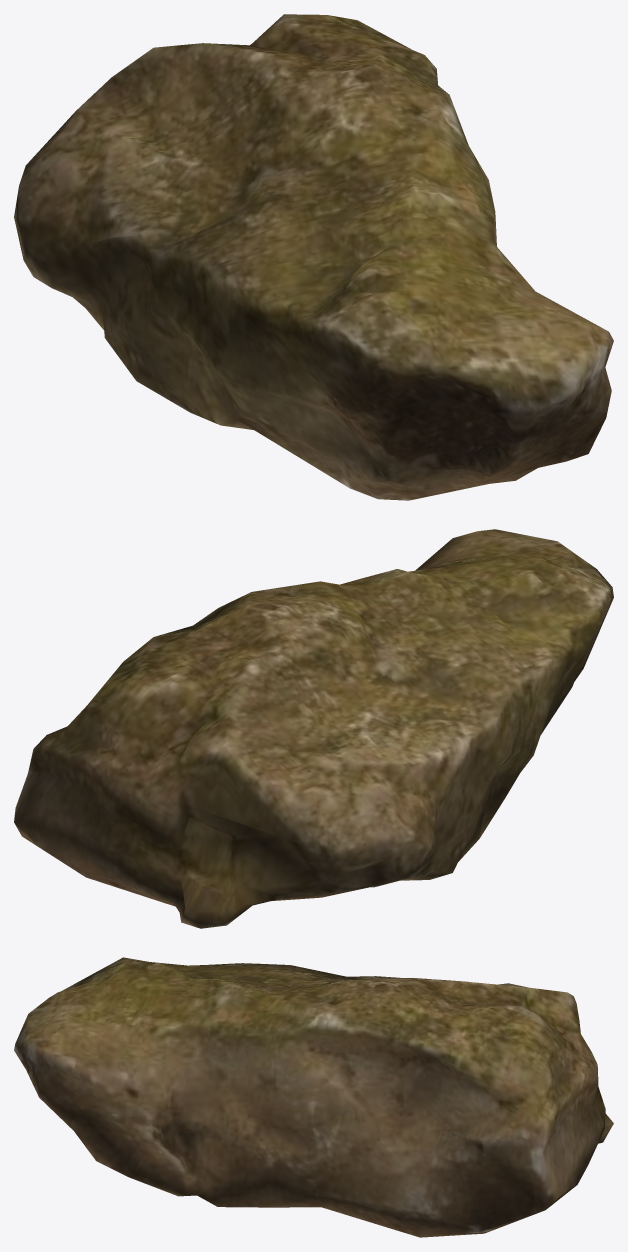
The model's file is ph_rock3.glb.
3 renders of one model, top to bottom at view 1: azimuth 30°, elevation 25°; view 2: azimuth 150°, elevation 25°; view 3: azimuth 270°, elevation 25°, orthographic. The views are drawn at different scales.
Visible parts, largest first — view 1: rock_moss_set_01_rock05; view 2: rock_moss_set_01_rock05; view 3: rock_moss_set_01_rock05.
Boxes of the visible parts, x1,y1,x2,y2 form: rock_moss_set_01_rock05: (14,14,613,500); rock_moss_set_01_rock05: (14,529,613,928); rock_moss_set_01_rock05: (14,957,613,1237).
Size of the model in its own units: 1.82 by 1.2 by 2.99.
Materials: 1 (1 with a texture image).
